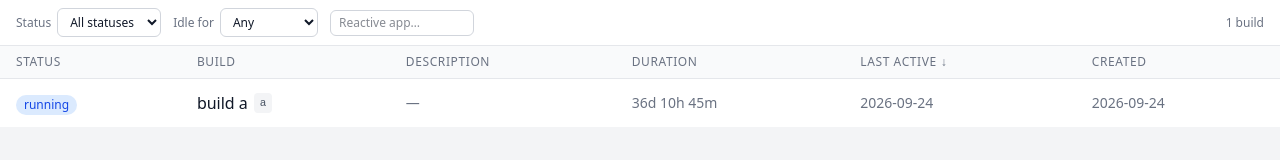
Test: BuildsList idle filter › disables the idle filter while a finished status is selected
Expected: the button "build a" is shown, [197,91,248,115]
Step 1. Select "Completed" in the dropdown named "Filter by build status" → point(109, 22), box [57,8,161,37]
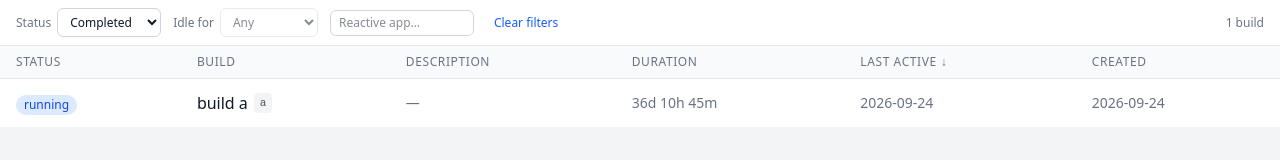
Result: the dropdown named "Filter by time since last activity" is disabled at [220,8,318,37]
